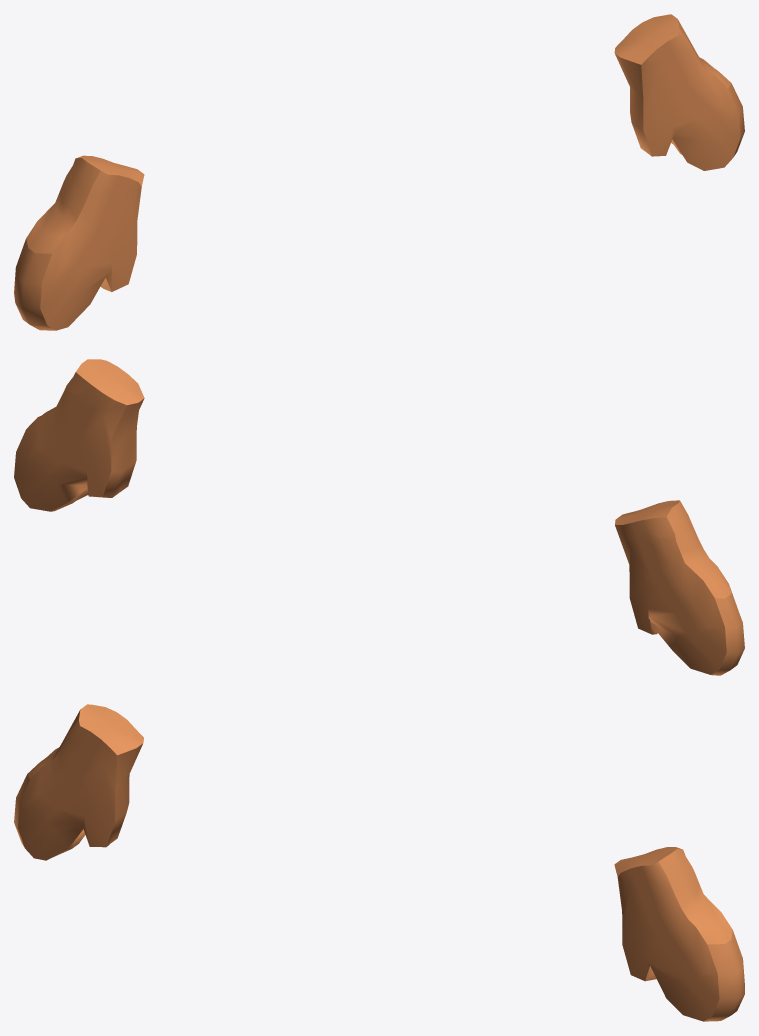
The model's file is HANDS.FBX.
3 renders of one model, top to bottom at view 1: azimuth 30°, elevation 25°; view 2: azimuth 150°, elevation 25°; view 3: azimuth 330°, elevation 25°, orthographic.
Visible parts, largest first — view 1: Box028, Box029; view 2: Box028, Box029; view 3: Box029, Box028.
Part boxes in pixels (<box>): Box028: <box>14,155,144,330</box>; Box029: <box>614,14,744,170</box>; Box028: <box>615,500,744,675</box>; Box029: <box>14,359,144,511</box>; Box029: <box>614,847,744,1021</box>; Box028: <box>14,704,143,860</box>.
Size of the model in its own units: 44.14 by 2.79 by 9.06.
